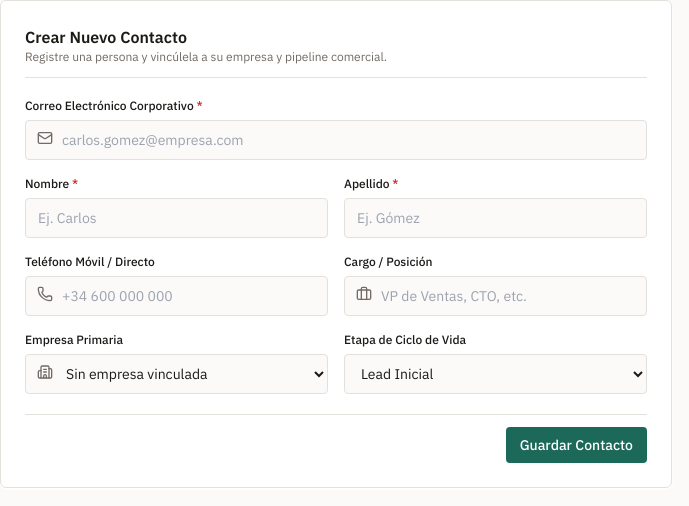
Scenario: Pipeline, Data Grid & Deal Peek Drawer Workflows › auto-infers first name, last name, and primary company from email domain in ContactForm
Type "laura.serrano@nordiccloud.io" into the field labelled "Correo Electrónico Corporativo *". click: (336, 140)
box: x1=25 y1=120 x2=647 y2=160
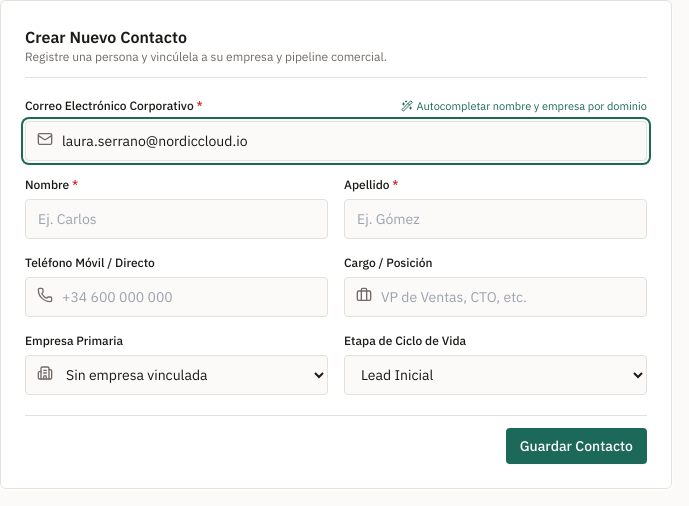
Click the button "Autocompletar nombre y empresa por dominio". click: (524, 106)
box: x1=400 y1=98 x2=647 y2=114
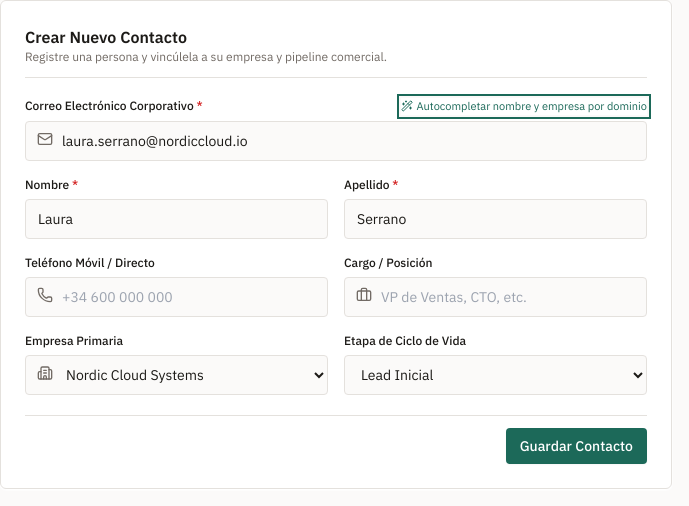
Check: the field labelled "Nombre *" holds "Laura", box x1=25 y1=198 x2=328 y2=238
Check: the field labelled "Apellido *" holds "Serrano", box x1=344 y1=198 x2=647 y2=238
Check: the dropdown labelled "Empresa Primaria" shows "Nordic Cloud Systems", box x1=25 y1=354 x2=328 y2=394
